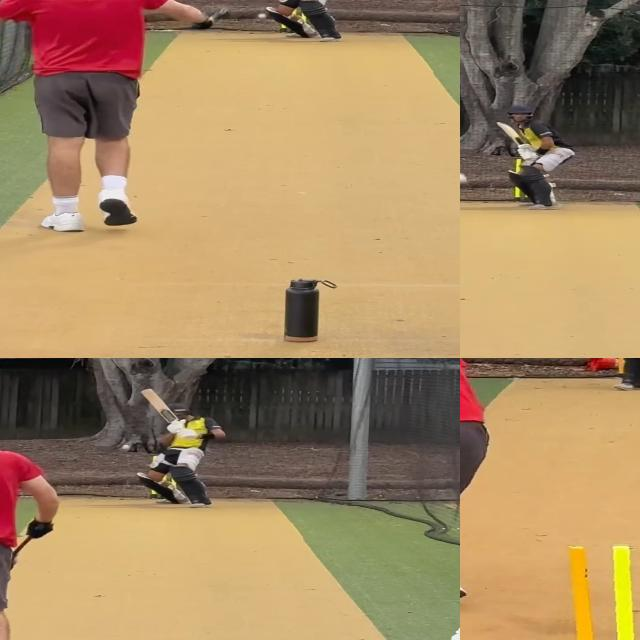Cricket ball: (460, 170, 469, 185), (120, 443, 133, 451), (257, 12, 268, 20)
Stumps: (553, 542, 640, 640)
